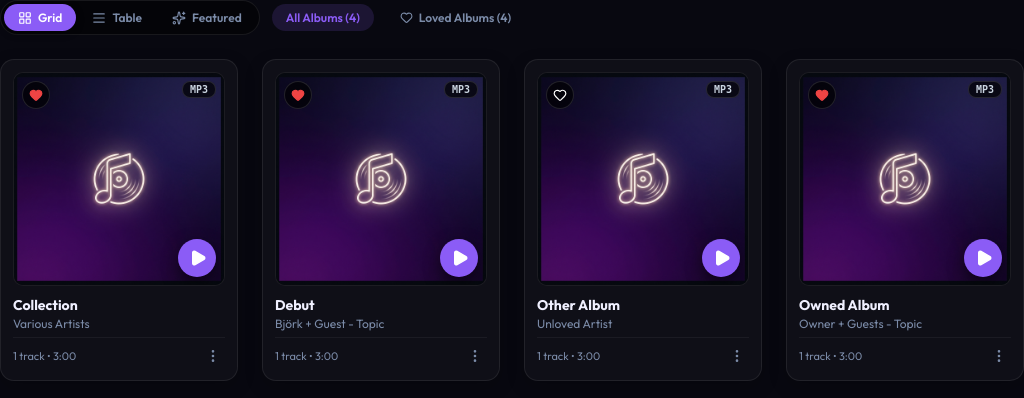
Test: Album View Modes & Full-Page Layout Experiences (Anti-UI-Slop Edition) › retains saved loved albums after canonical artist migration and asynchronous track loading
The image size is (1024, 398).
Click the button "Loved Albums (4)". click: (456,18)
box: [386, 4, 525, 31]
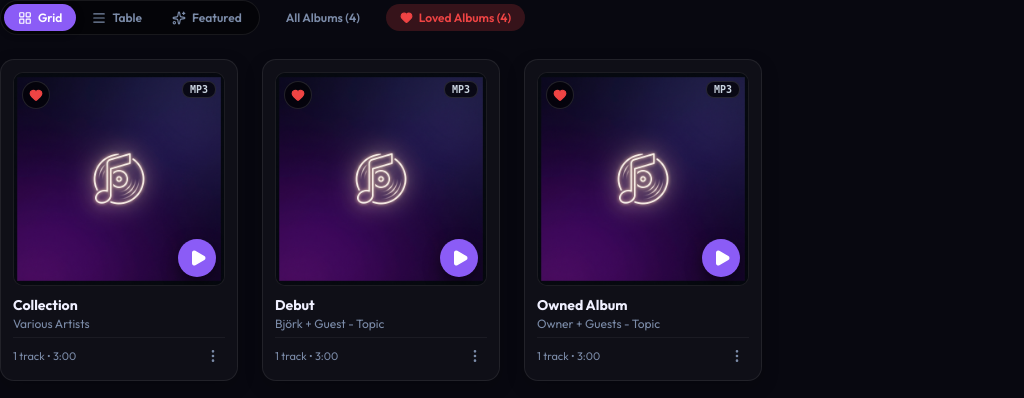
Expected: the number of elements with class "album-card-classic" is 3, [0, 59, 238, 381]; [262, 59, 500, 381]; [524, 59, 762, 381]
